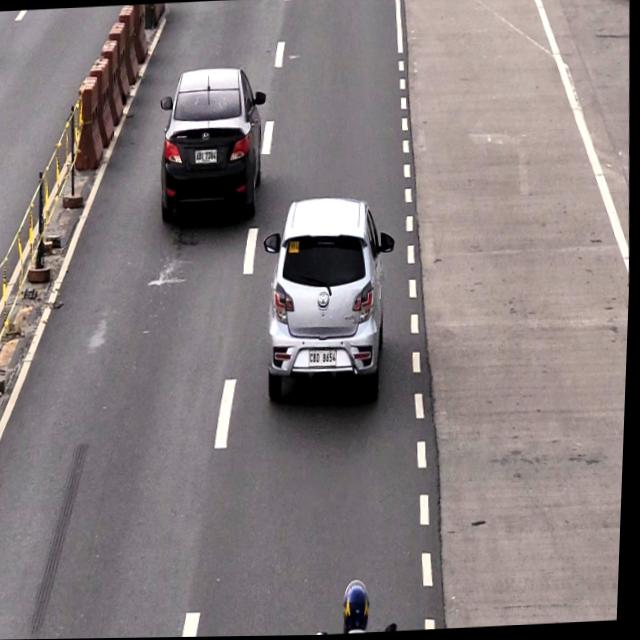Car: (266, 196, 392, 414), (158, 61, 265, 228)
License-Plate: (309, 348, 343, 373), (195, 147, 219, 165)
